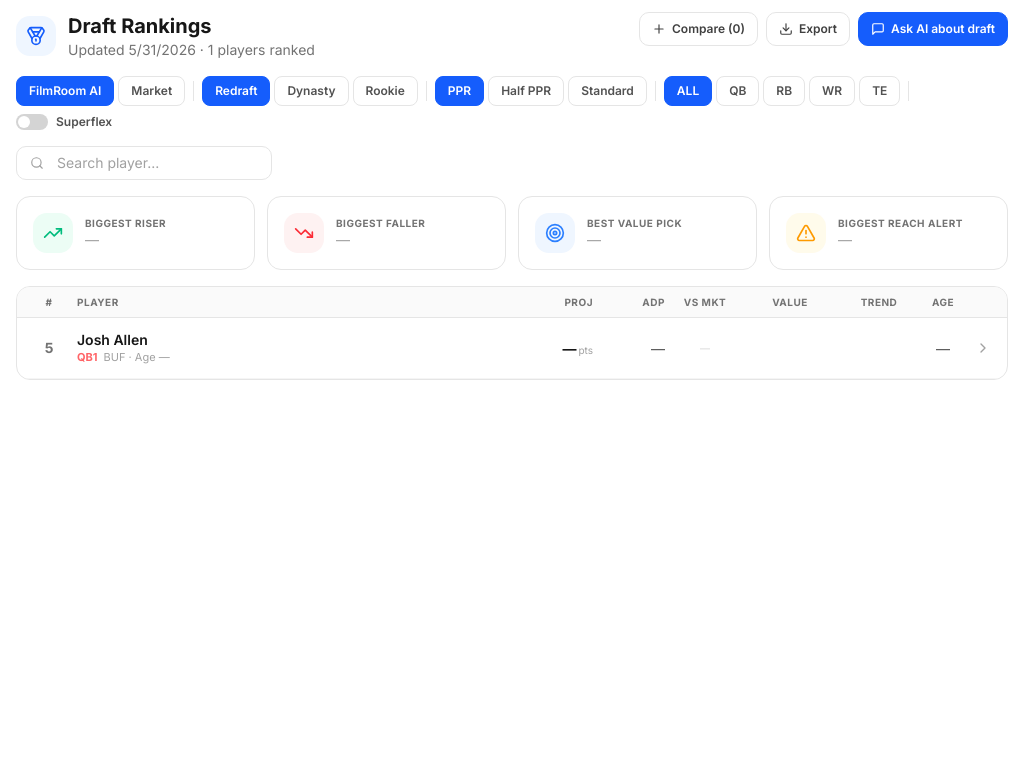
Test: DraftRankingsView — trend and movement use real data only › shows 1d/7d/30d deltas only where snapshots exist, with direction styling
Click the button "5 Josh Allen QB1 BUF · Age — —pts — — —" at (112, 340), box [45, 331, 991, 364]
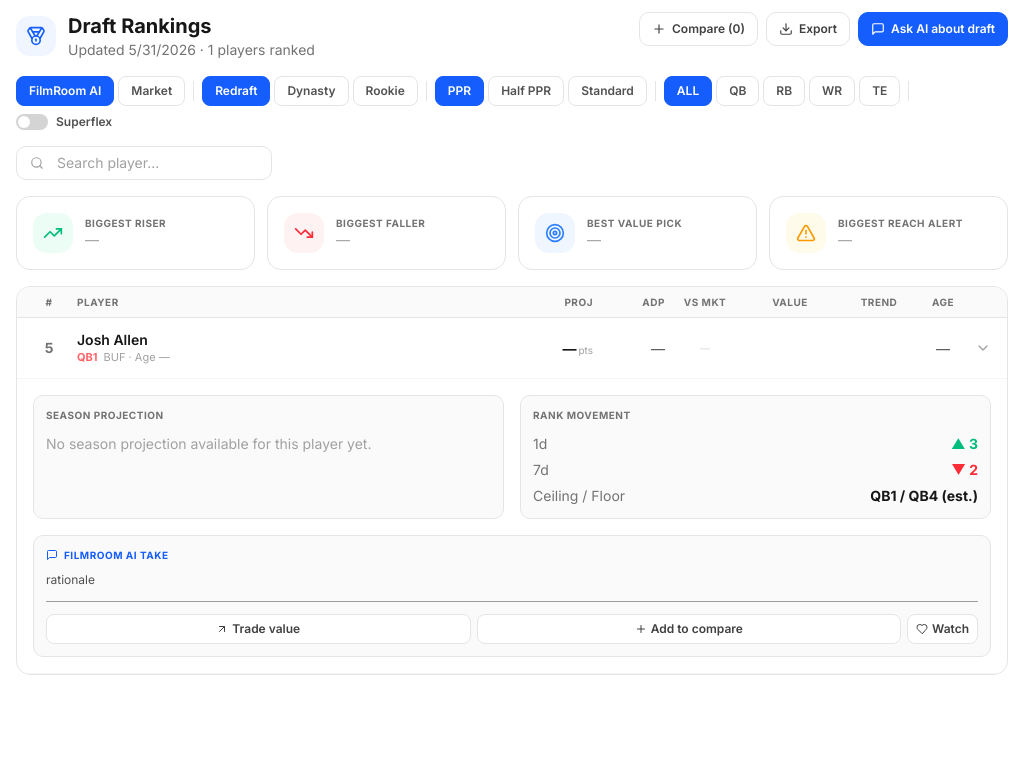
Result: the text "1d" is shown at [533, 434, 547, 454]
Result: the text "▲ 3" is shown at [951, 434, 978, 454]
Result: the text "7d" is shown at [533, 460, 549, 480]
